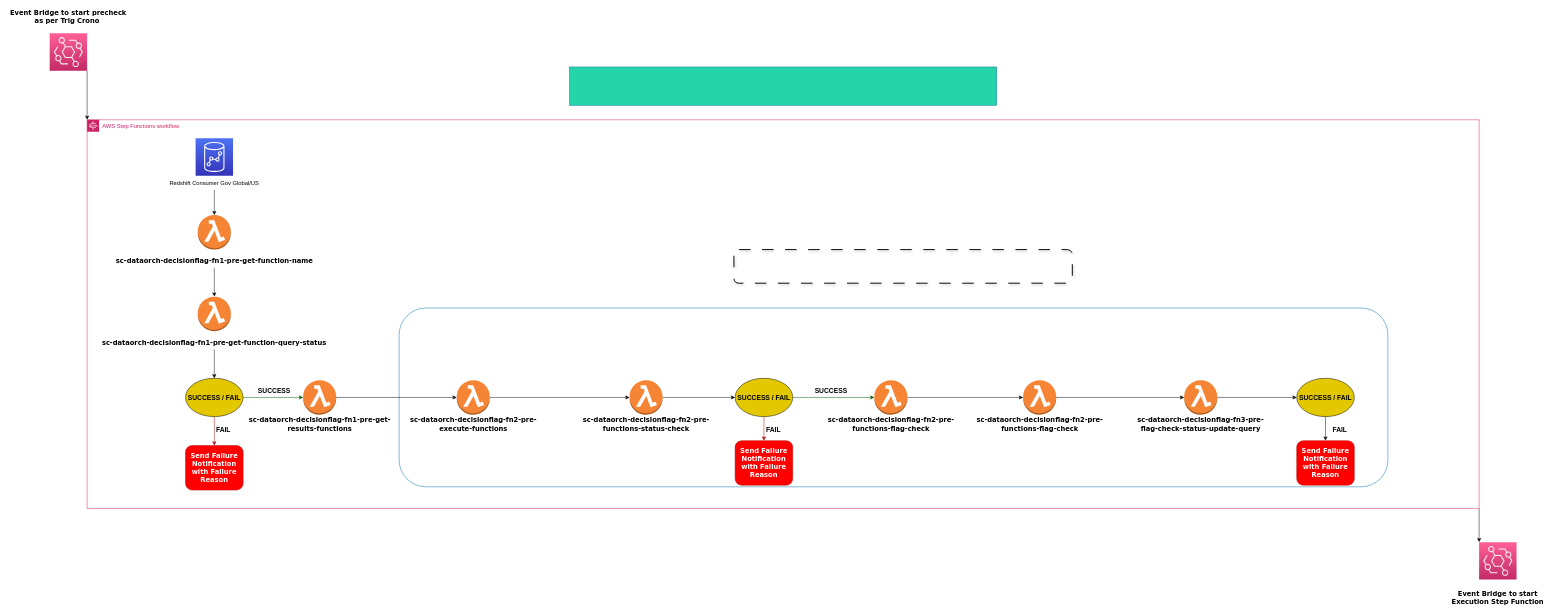
Some shapes in this 1566 by 613 pixel diagram are drawn without their labels. Here are the shapes that lost their labels. From the top down, the centre of each, then its label:
At [783,85]: "Function/Procedure Executor Work Flow for Redshift".
At [903,267]: "MAP FLOW".
